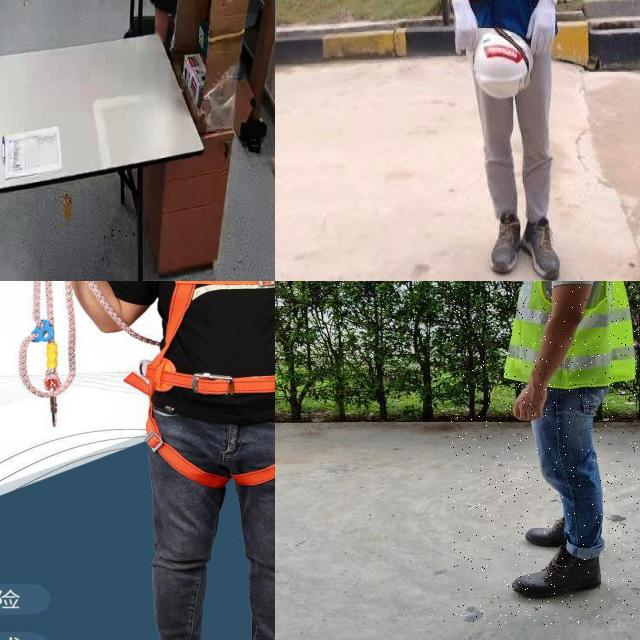Harness: (145, 281, 275, 443)
boots: (510, 544, 603, 598), (523, 211, 563, 281), (491, 206, 523, 275), (518, 514, 579, 550)
head_helmet: (469, 27, 532, 99)
person: (448, 281, 640, 626), (413, 0, 603, 281)
vest: (502, 281, 637, 389)
